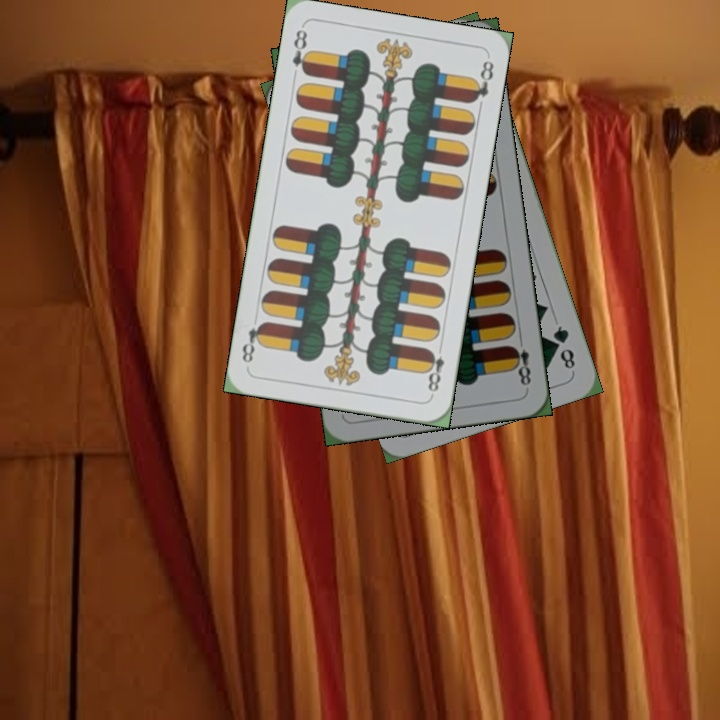E8: (507, 332, 534, 388), (422, 340, 447, 399), (288, 25, 313, 78)
G8: (549, 321, 578, 372)
